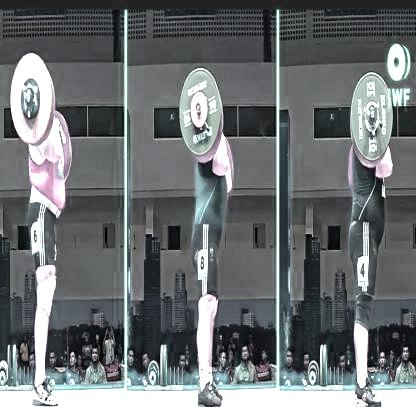Barbell: (20, 78, 44, 122), (189, 90, 210, 135), (362, 96, 381, 137)
